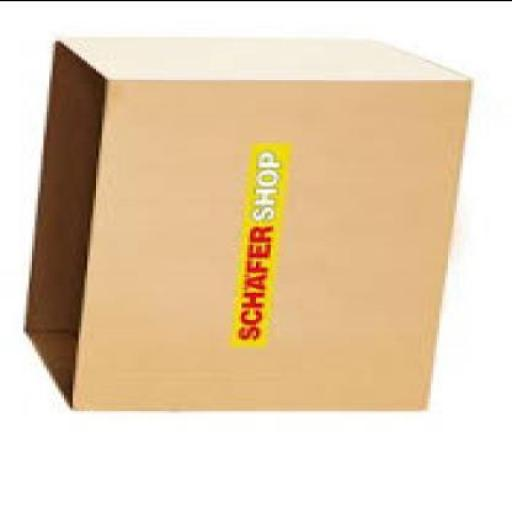cardboard: (20, 42, 471, 412)
